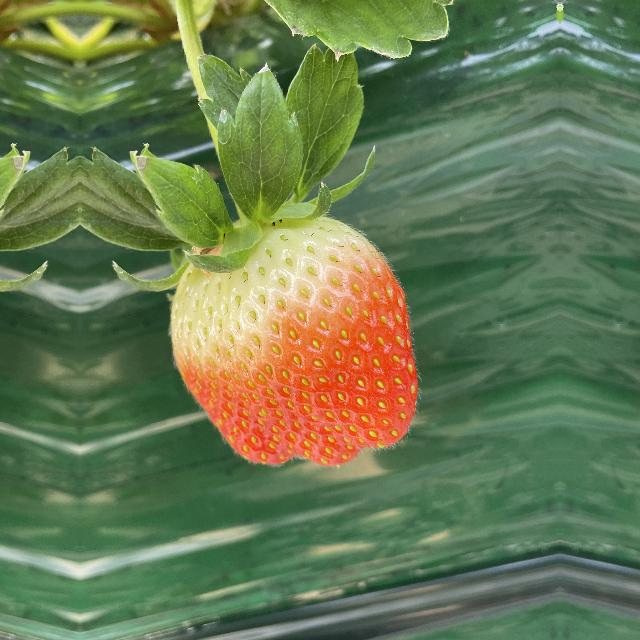Health_75: (157, 212, 430, 472)
